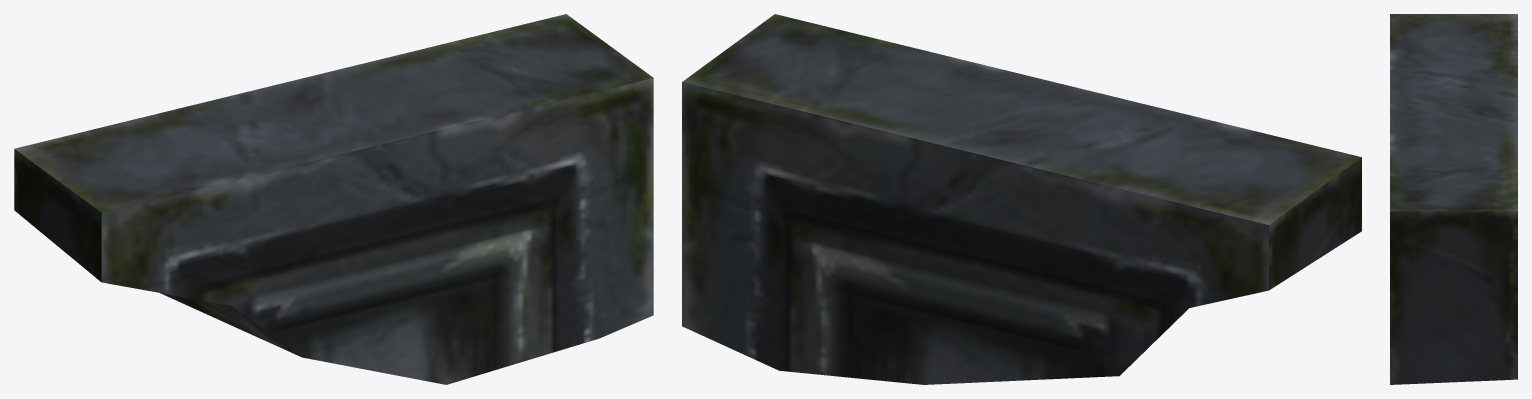
Rendered from C_mubei004.fbx.
The picture shows the model from 3 angles, left to right: view 1: azimuth 30°, elevation 25°; view 2: azimuth 150°, elevation 25°; view 3: azimuth 270°, elevation 25°; orthographic projection. The views are drawn at different scales.
Visible parts, largest first — view 1: C_mubei004; view 2: C_mubei004; view 3: C_mubei004.
Boxes of the visible parts, x1,y1,x2,y2 form: C_mubei004: (14,14,653,384); C_mubei004: (682,14,1361,384); C_mubei004: (1390,14,1517,384).
Bounding box in the file's own units: 77.14 × 34.23 × 21.14.
